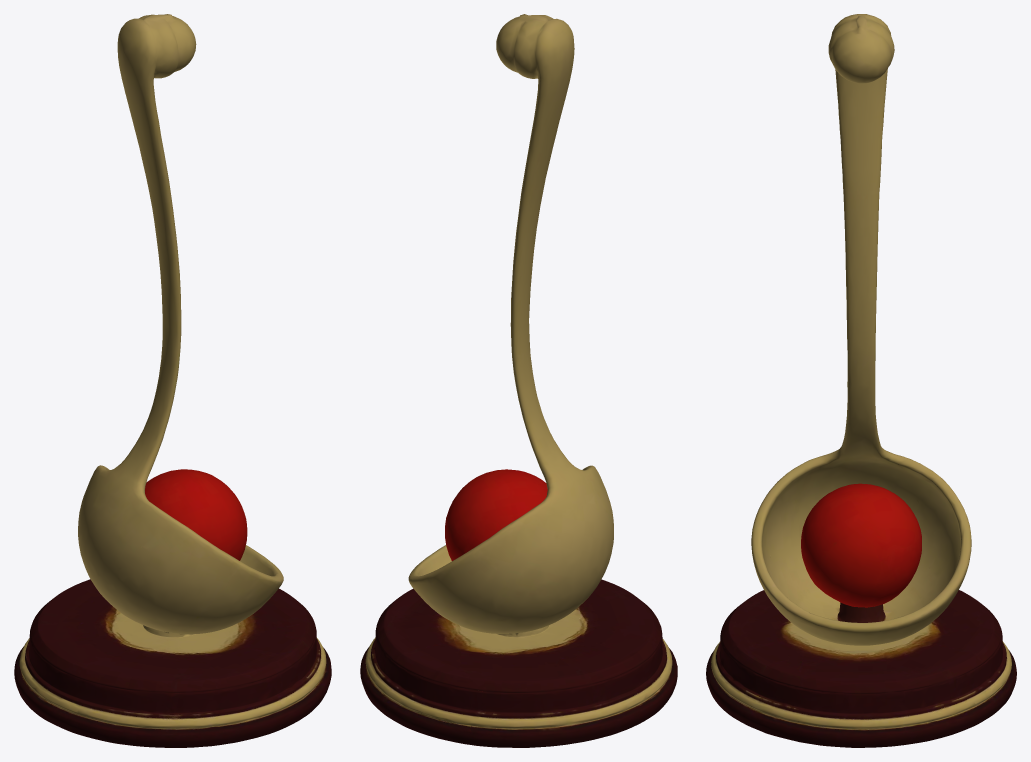
Rendered from ladle-emblem-tripo.glb.
3 views of the same model, side by side, from view 1: azimuth 30°, elevation 25°; view 2: azimuth 150°, elevation 25°; view 3: azimuth 270°, elevation 25° (orthographic). The views are drawn at different scales.
Parts seen in each view (by area): view 1: tripo_node_623a6537-f0d3-4c6c-9c7d-a156c4d2638e; view 2: tripo_node_623a6537-f0d3-4c6c-9c7d-a156c4d2638e; view 3: tripo_node_623a6537-f0d3-4c6c-9c7d-a156c4d2638e.
Boxes of the visible parts, x1=… form: tripo_node_623a6537-f0d3-4c6c-9c7d-a156c4d2638e: x1=14, y1=14, x2=331, y2=747; tripo_node_623a6537-f0d3-4c6c-9c7d-a156c4d2638e: x1=360, y1=14, x2=677, y2=747; tripo_node_623a6537-f0d3-4c6c-9c7d-a156c4d2638e: x1=706, y1=14, x2=1016, y2=747.
Size of the model in its own units: 0.4291 by 1 by 0.4291.
Materials: 1 (1 with a texture image).
